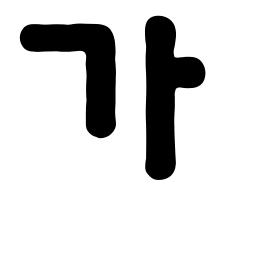Gaji: (137, 49, 192, 99)
